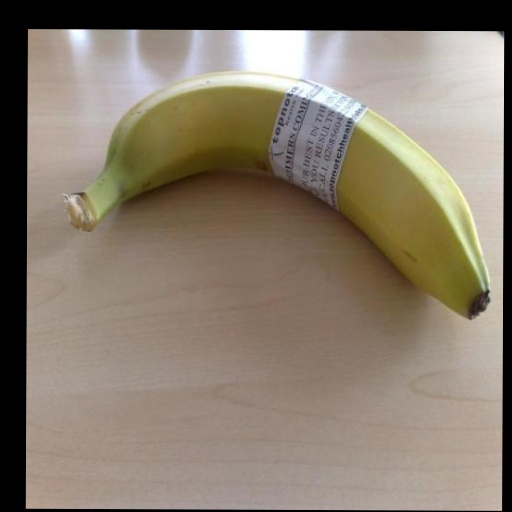fruit: (66, 72, 297, 230)
